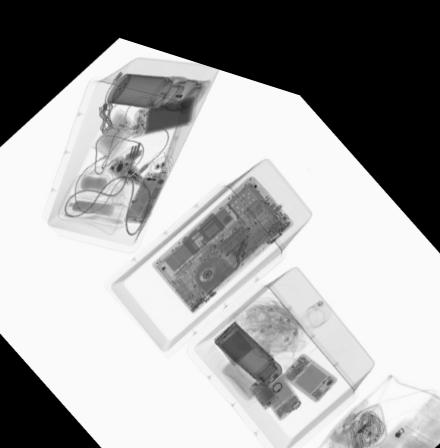Powerbank: (132, 81, 197, 131)
